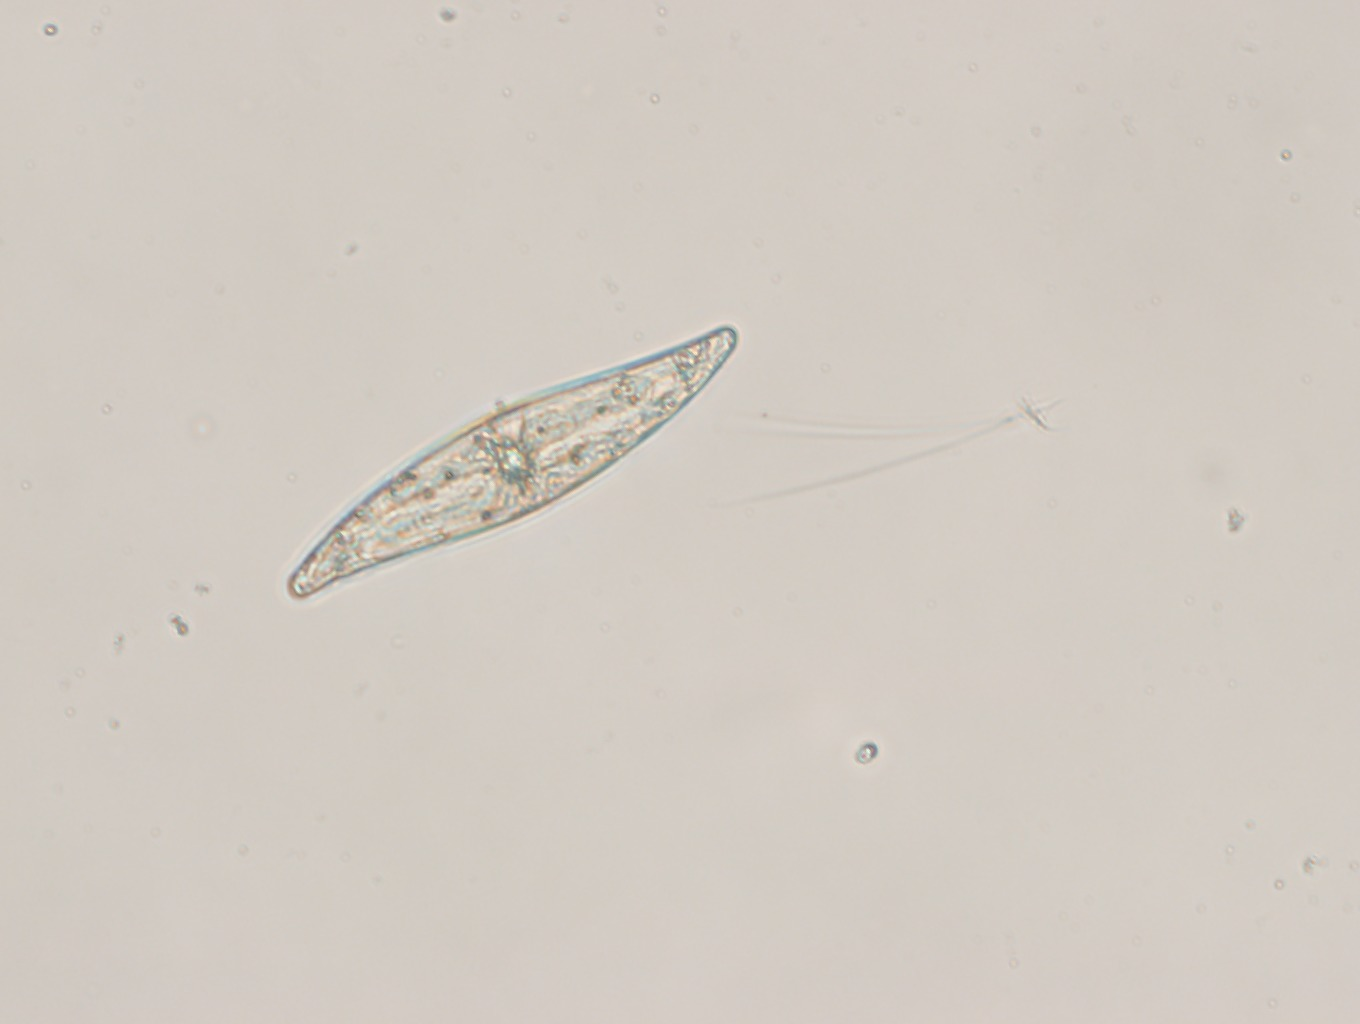pleurosigma pelagicum: (287, 321, 738, 600)
